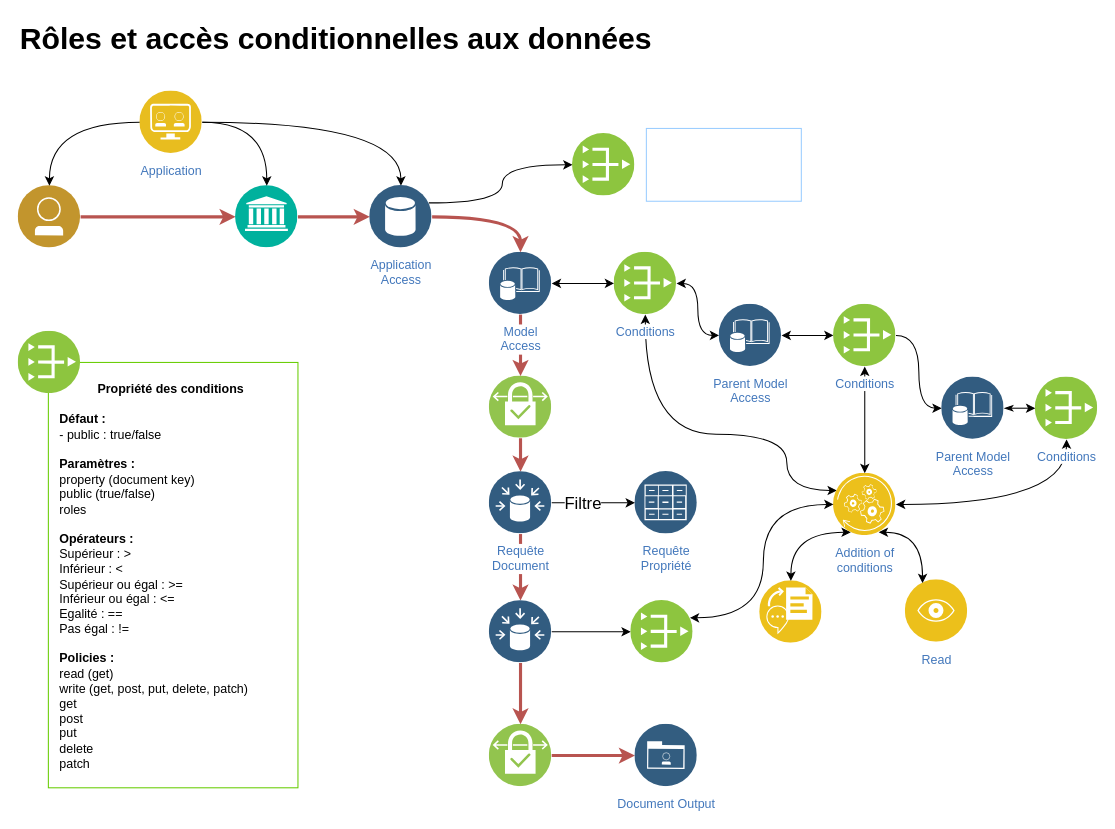
The diagram is 1115 pixels wide and 829 high, and some of its shapes have lost their labels. The shapes that lost their labels are listed below. From the top down, each one's centre as x and y in pixels, then its label:
At point (603, 164): "App Conditions".
At point (723, 164): "Allow user management etc.".
At point (49, 216): "Users".
At point (266, 216): "Rôles".
At point (520, 631): "Document Access".
At point (661, 631): "Document Conditions".
At point (790, 611): "Write".
